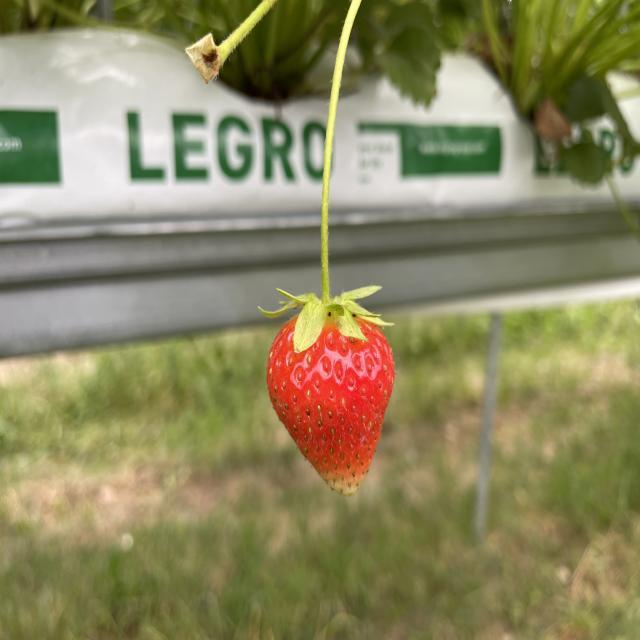stem: (260, 0, 390, 352)
strawberryR: (269, 319, 395, 494)
